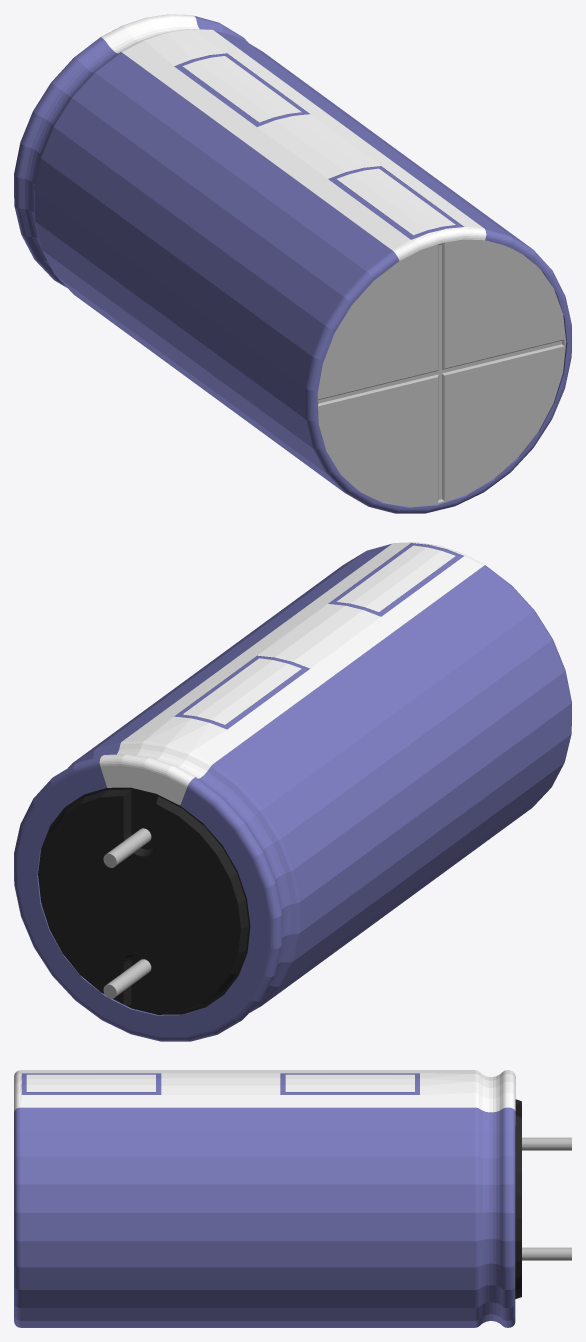
The model's file is cap_el_d16_h31.5_pitch7.5_w0.8.obj.
The picture shows the model from 3 angles, top to bottom: view 1: azimuth 30°, elevation 25°; view 2: azimuth 150°, elevation 25°; view 3: azimuth 270°, elevation 25°; orthographic projection. The views are drawn at different scales.
Parts seen in each view (by area): view 1: cap_el_d16_h31.5_pitch7.5_w0.8; view 2: cap_el_d16_h31.5_pitch7.5_w0.8; view 3: cap_el_d16_h31.5_pitch7.5_w0.8.
Part boxes in pixels (x1=…): cap_el_d16_h31.5_pitch7.5_w0.8: x1=14, y1=14, x2=571, y2=513; cap_el_d16_h31.5_pitch7.5_w0.8: x1=14, y1=542, x2=571, y2=1041; cap_el_d16_h31.5_pitch7.5_w0.8: x1=14, y1=1070, x2=571, y2=1327.
Bounding box in the file's own units: 0.00861 × 0.00863 × 0.0187.
